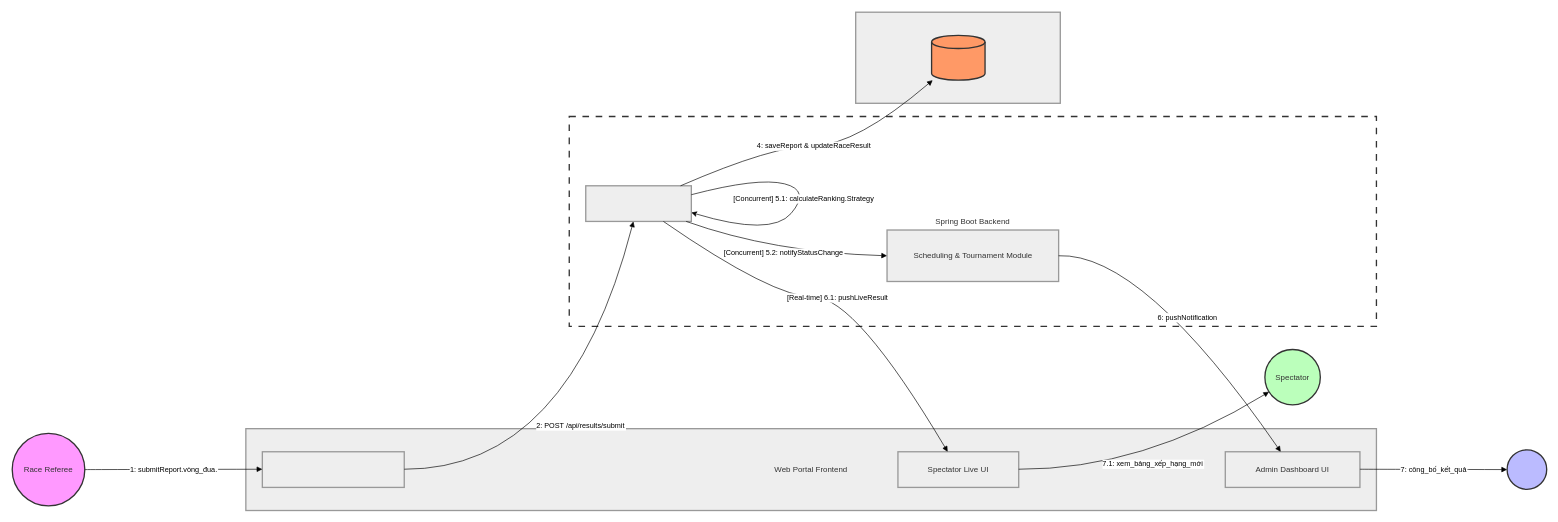
Image size: 1558x522. Some labels were removed from this diagram. The centre of each missing label's shape, as x and y in pixels:
Admin: pixel 1526 469
Database: pixel 958 57
Referee Dashboard UI: pixel 333 469
Result Module: pixel 638 203
